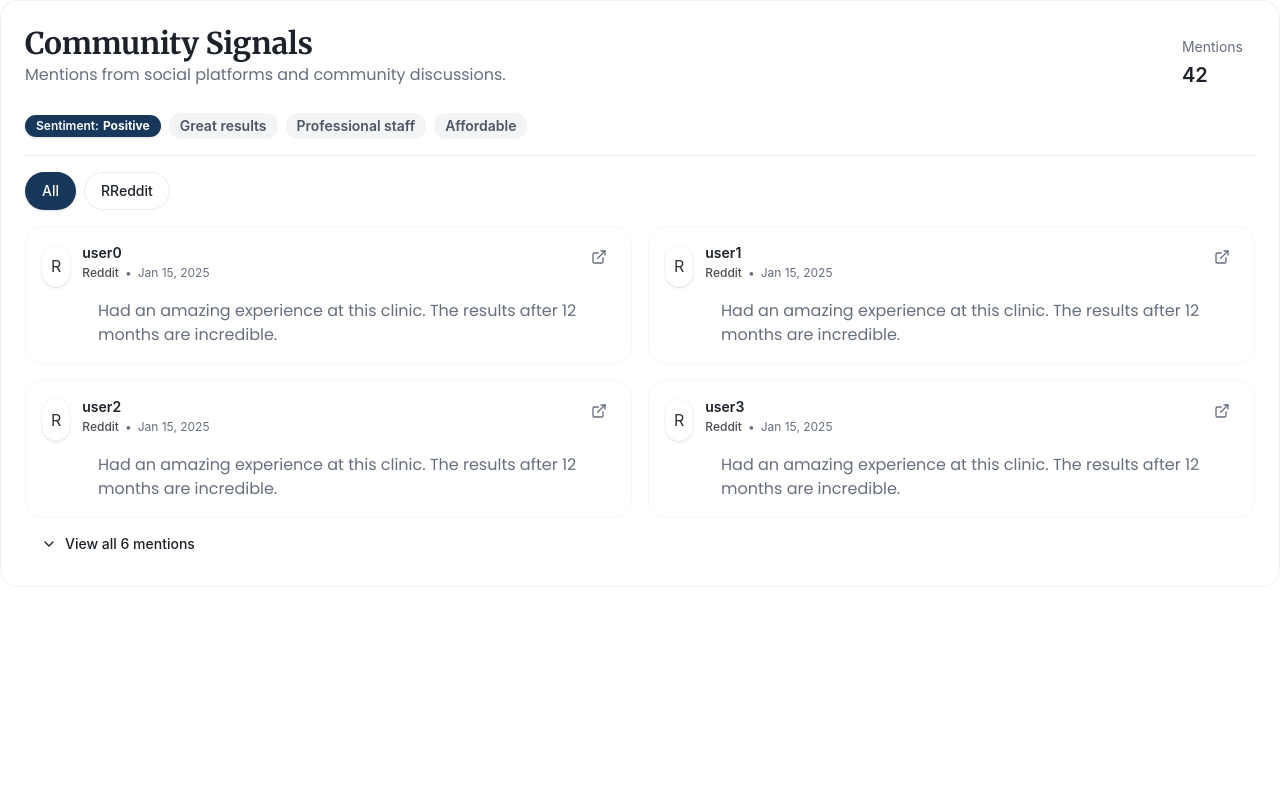
Test: CommunitySignalsSection › shows collapse button after expanding
The image size is (1280, 800).
Click the button "View all 6 mentions": (93, 544) [25,526,1255,562]
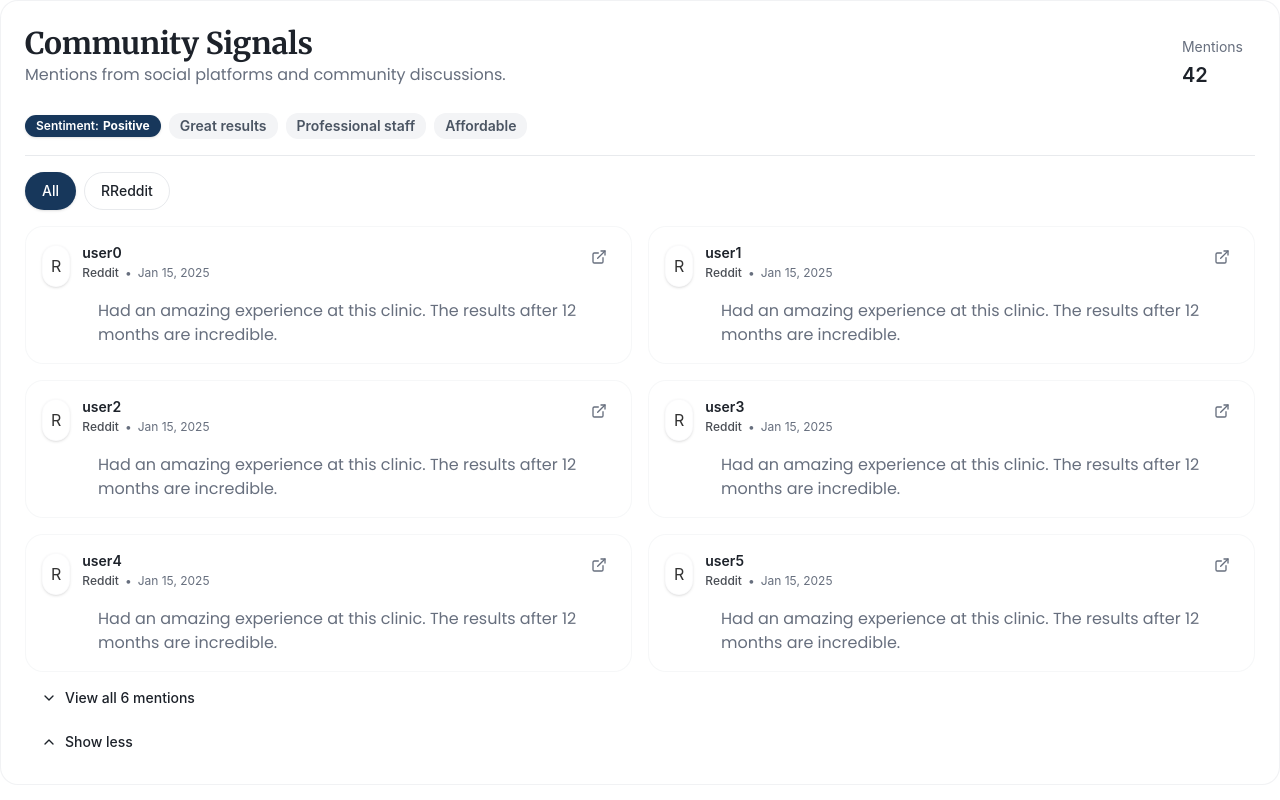
Now the button "Show less" is shown, box [25,724,1255,760]
